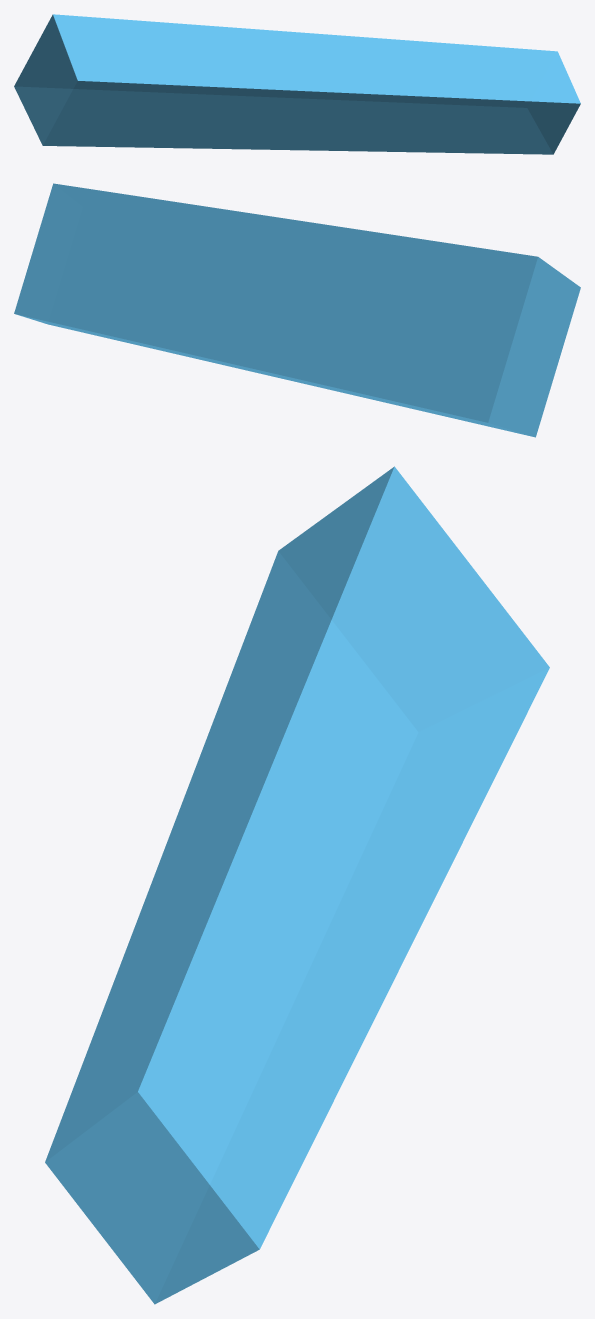
Rendered from Event_421278790_HErechit_0.fbx.
3 views of the same model, one above another, from view 1: azimuth 30°, elevation 25°; view 2: azimuth 150°, elevation 25°; view 3: azimuth 270°, elevation 25° (orthographic). The views are drawn at different scales.
Parts seen in each view (by area): view 1: Model; view 2: Model; view 3: Model.
Part boxes in pixels (<box>): Model: <box>14,14,580,154</box>; Model: <box>14,183,580,437</box>; Model: <box>45,466,549,1304</box>.
Bounding box in the file's own units: 2.82 × 1.24 × 1.39.
